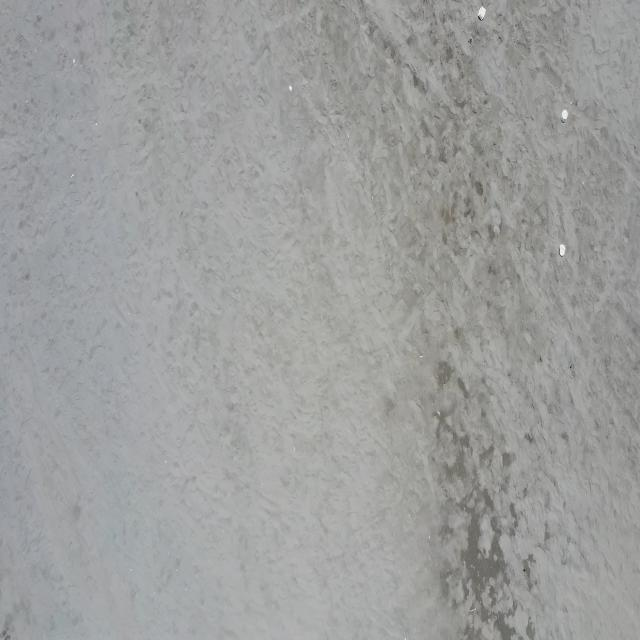take-away-containers: (478, 5, 487, 22), (560, 110, 569, 124), (558, 244, 566, 257)
